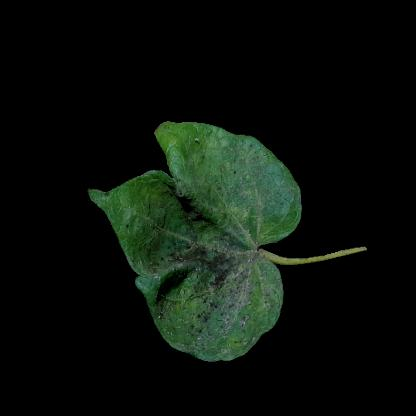curl_stage1: (162, 127, 203, 159)
healthy: (261, 172, 299, 228), (107, 191, 143, 237), (204, 126, 222, 186)
sooty: (163, 225, 261, 317), (190, 316, 256, 356), (175, 188, 227, 223), (235, 170, 261, 225)
